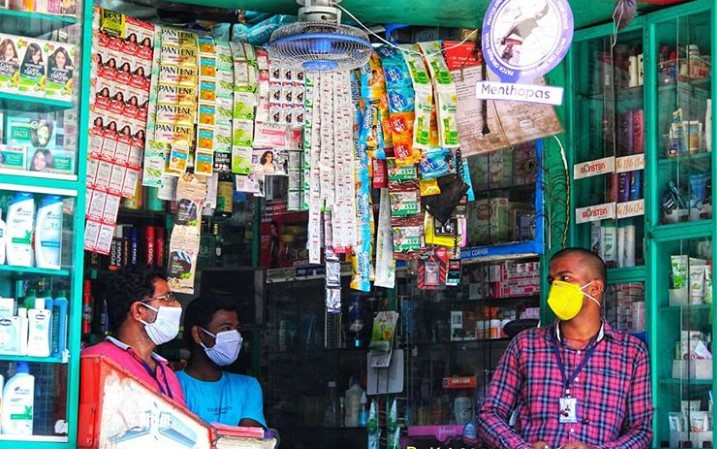face_with_mask: (105, 265, 185, 349), (544, 246, 610, 327), (190, 298, 244, 373)
